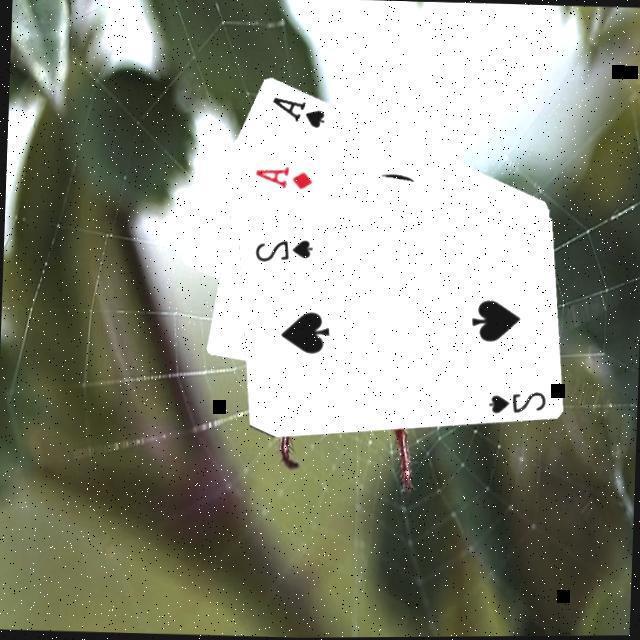2S: (252, 232, 316, 264), (484, 386, 549, 416)
AD: (252, 160, 316, 190)
AS: (268, 90, 329, 130)
